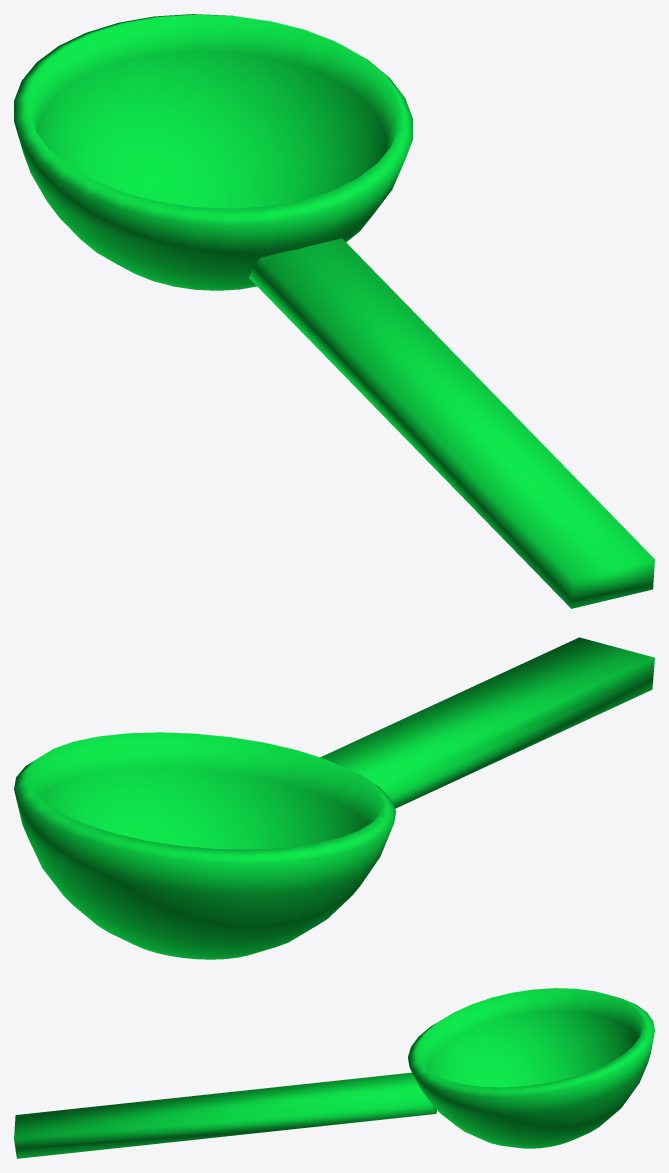
The model's file is colher.glb.
3 renders of one model, top to bottom at view 1: azimuth 30°, elevation 25°; view 2: azimuth 150°, elevation 25°; view 3: azimuth 270°, elevation 25°, orthographic. The views are drawn at different scales.
Visible parts, largest first — view 1: Cube.006; view 2: Cube.006; view 3: Cube.006.
Part boxes in pixels (<box>): Cube.006: <box>14,14,654,608</box>; Cube.006: <box>14,637,654,959</box>; Cube.006: <box>14,988,654,1158</box>.
Size of the model in its own units: 0.1049 by 0.0585 by 0.2698.
